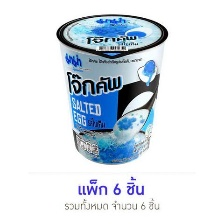paper_cup: (50, 10, 172, 169)
